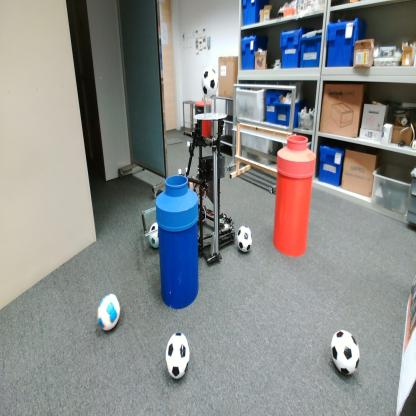ball: (330, 329, 361, 378), (164, 331, 191, 382), (96, 293, 121, 332), (202, 65, 220, 101), (236, 224, 253, 254), (148, 221, 160, 250)
